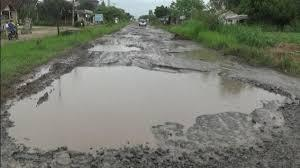Pothole: (10, 62, 293, 160), (87, 20, 147, 59), (155, 31, 191, 57)
